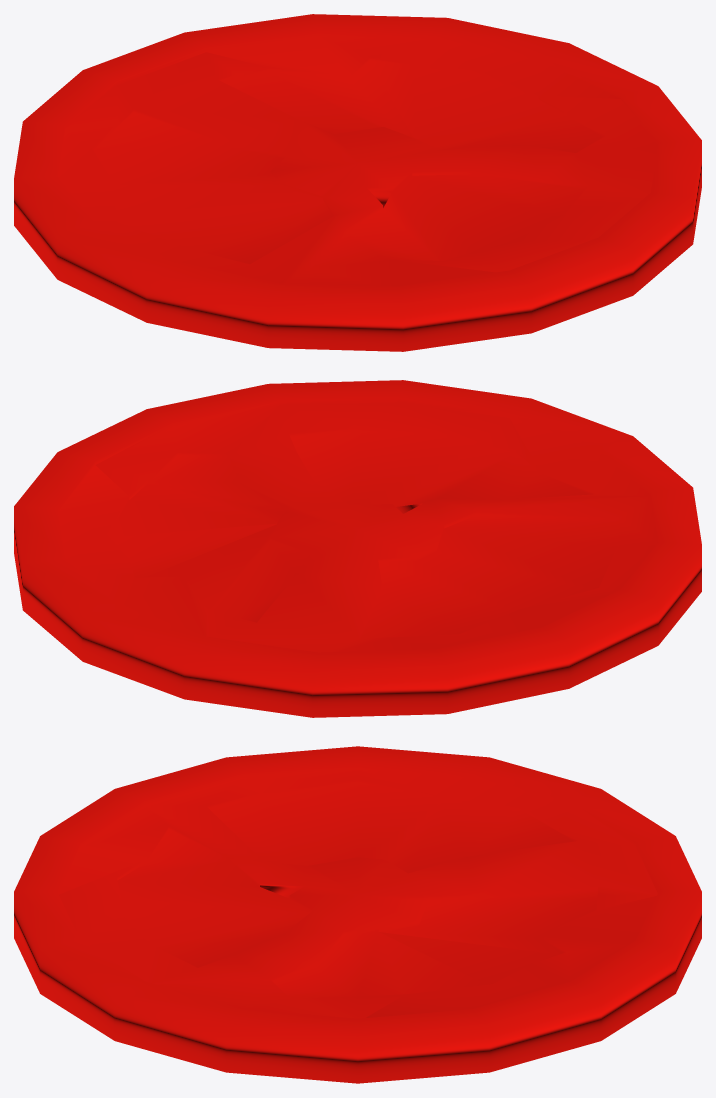
The model's file is 9_tomato.fbx.
3 views of the same model, one above another, from view 1: azimuth 30°, elevation 25°; view 2: azimuth 150°, elevation 25°; view 3: azimuth 270°, elevation 25° (orthographic).
Parts seen in each view (by area): view 1: tomato.001; view 2: tomato.001; view 3: tomato.001.
Boxes of the visible parts, x1,y1,x2,y2 form: tomato.001: (14,14,701,351); tomato.001: (14,380,701,717); tomato.001: (14,746,701,1083).
Size of the model in its own units: 171 by 171 by 12.76.
